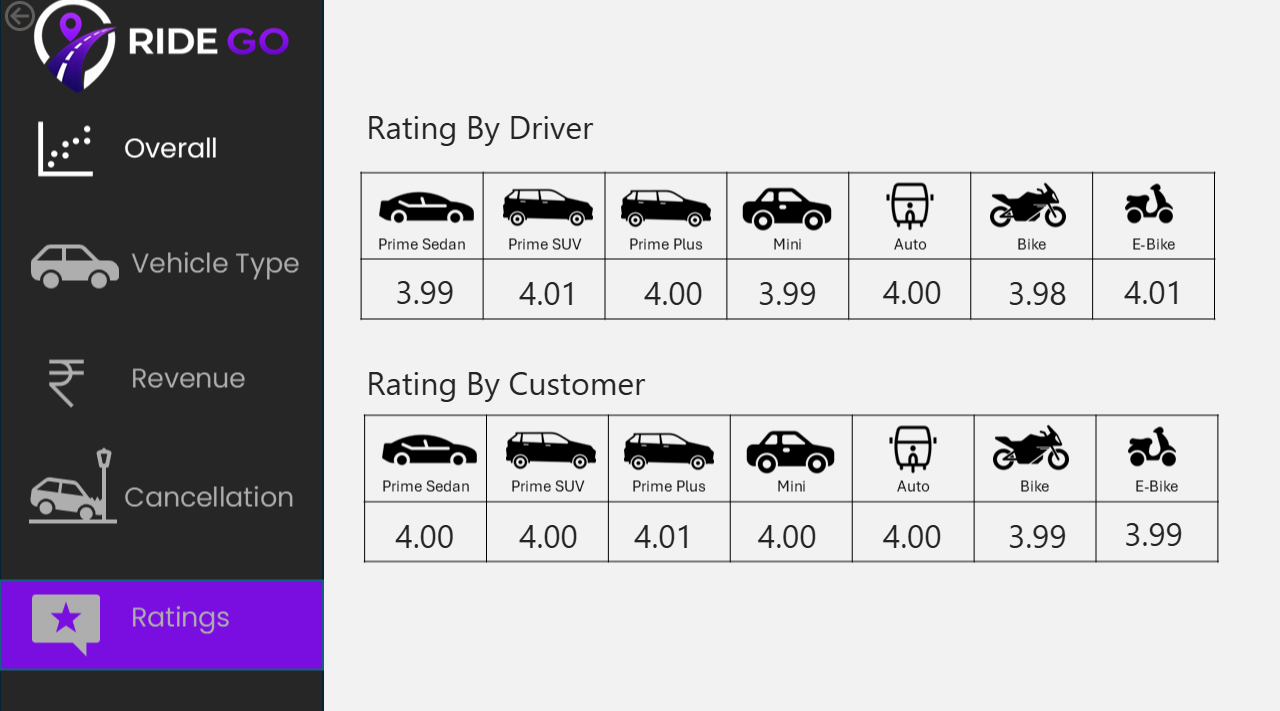

Layout of this report page (visuals, bound fields, positions):
{"tool":"powerbi","page":{"name":"ratings","canvas":[1280,720],"ordinal":4},"visuals":[{"type":"actionButton","box":[1.7,331.7,325,96.7],"z":0},{"type":"actionButton","box":[0,441.7,326.7,110],"z":1000},{"type":"actionButton","box":[0,103.3,325,93.3],"z":2000},{"type":"actionButton","box":[0,221.7,325,93.3],"z":3000},{"type":"actionButton","box":[0,0,100,40],"z":4001},{"type":"textbox","box":[362.2,268.9,124.4,63.3],"z":4003},{"type":"textbox","box":[486.7,270,124.4,63.3],"z":4004},{"type":"textbox","box":[611.1,270,124.4,63.3],"z":4005},{"type":"textbox","box":[725.6,270,124.4,63.3],"z":4006},{"type":"textbox","box":[850,268.9,124.4,63.3],"z":4007},{"type":"textbox","box":[974.4,270,124.4,63.3],"z":4008},{"type":"textbox","box":[1091.1,268.9,124.4,63.3],"z":4009},{"type":"textbox","box":[362.2,512.2,124.4,63.3],"z":4010},{"type":"textbox","box":[486.7,512.2,124.4,63.3],"z":4011},{"type":"textbox","box":[601.1,512.2,124.4,63.3],"z":4012},{"type":"textbox","box":[725.6,512.2,124.4,63.3],"z":4013},{"type":"textbox","box":[850,512.2,124.4,63.3],"z":4014},{"type":"textbox","box":[974.4,512.2,124.4,63.3],"z":4015},{"type":"textbox","box":[1091.1,511.1,124.4,63.3],"z":4016},{"type":"textbox","box":[361.7,103.3,363.3,56.7],"z":4017},{"type":"textbox","box":[361.7,360,363.3,56.7],"z":4018}]}

Visuals, with their boxes on the page's 1280x720 design canvas (x1, y1, x2, y2). These are canvas units, not pixel positions in the 1280x711 screenshot, which may show the page scaled, cropped or inside an application window:
actionButton: <bbox>2, 332, 327, 428</bbox>
actionButton: <bbox>0, 442, 327, 552</bbox>
actionButton: <bbox>0, 103, 325, 197</bbox>
actionButton: <bbox>0, 222, 325, 315</bbox>
actionButton: <bbox>0, 0, 100, 40</bbox>
textbox: <bbox>362, 269, 487, 332</bbox>
textbox: <bbox>487, 270, 611, 333</bbox>
textbox: <bbox>611, 270, 736, 333</bbox>
textbox: <bbox>726, 270, 850, 333</bbox>
textbox: <bbox>850, 269, 974, 332</bbox>
textbox: <bbox>974, 270, 1099, 333</bbox>
textbox: <bbox>1091, 269, 1216, 332</bbox>
textbox: <bbox>362, 512, 487, 576</bbox>
textbox: <bbox>487, 512, 611, 576</bbox>
textbox: <bbox>601, 512, 726, 576</bbox>
textbox: <bbox>726, 512, 850, 576</bbox>
textbox: <bbox>850, 512, 974, 576</bbox>
textbox: <bbox>974, 512, 1099, 576</bbox>
textbox: <bbox>1091, 511, 1216, 574</bbox>
textbox: <bbox>362, 103, 725, 160</bbox>
textbox: <bbox>362, 360, 725, 417</bbox>
